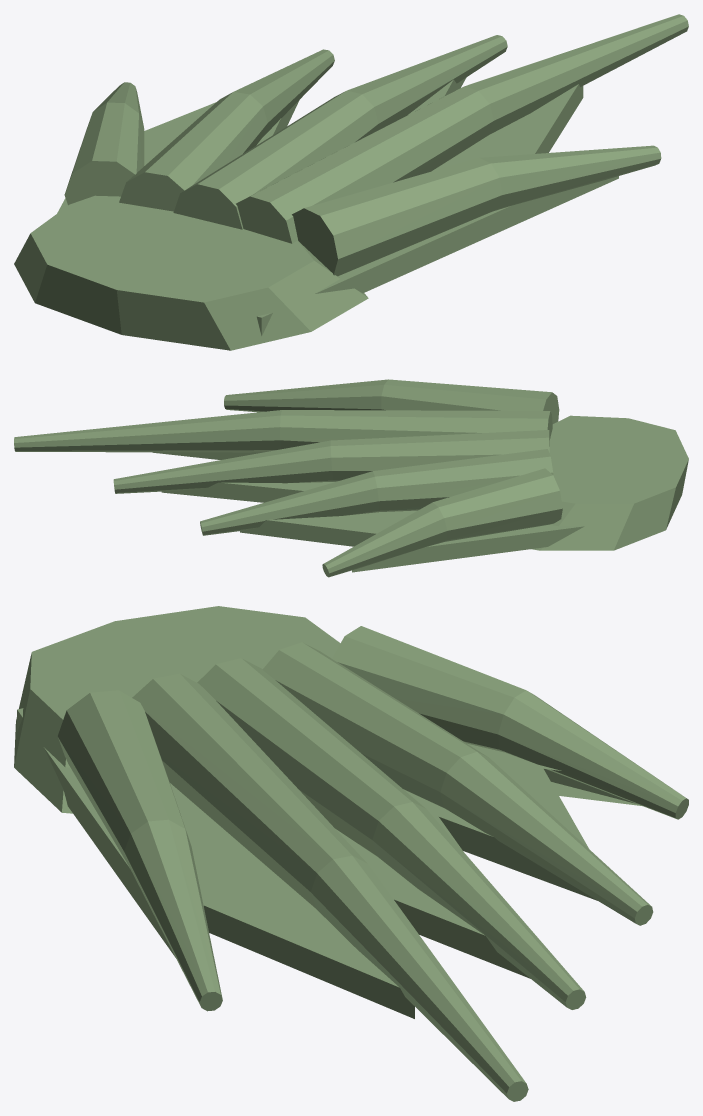
Rendered from frog_foot_hr_01.glb.
3 renders of one model, top to bottom at view 1: azimuth 30°, elevation 25°; view 2: azimuth 150°, elevation 25°; view 3: azimuth 270°, elevation 25°, orthographic. The views are drawn at different scales.
Parts seen in each view (by area): view 1: HindRPalm, HindRToe3, HindRToe4, HindRToe2, HindRWeb, HindRToe1, HindRToe0; view 2: HindRPalm, HindRToe3, HindRToe2, HindRToe1, HindRToe0, HindRWeb, HindRToe4; view 3: HindRToe3, HindRWeb, HindRToe2, HindRToe1, HindRPalm, HindRToe4, HindRToe0.
Part boxes in pixels (x1=…): HindRPalm: x1=14, y1=195, x2=368, y2=350; HindRToe3: x1=236, y1=14, x2=688, y2=243; HindRToe4: x1=292, y1=145, x2=661, y2=276; HindRToe2: x1=173, y1=35, x2=507, y2=229; HindRWeb: x1=57, y1=77, x2=618, y2=336; HindRToe1: x1=119, y1=49, x2=334, y2=211; HindRToe0: x1=64, y1=82, x2=144, y2=205; HindRPalm: x1=531, y1=415, x2=688, y2=550; HindRToe3: x1=14, y1=410, x2=552, y2=452; HindRToe2: x1=113, y1=430, x2=549, y2=493; HindRToe1: x1=200, y1=449, x2=553, y2=535; HindRToe0: x1=322, y1=468, x2=562, y2=577; HindRWeb: x1=152, y1=452, x2=584, y2=572; HindRToe4: x1=224, y1=379, x2=559, y2=423; HindRToe3: x1=132, y1=673, x2=528, y2=1101; HindRWeb: x1=17, y1=708, x2=641, y2=1018; HindRToe2: x1=197, y1=658, x2=586, y2=1009; HindRToe1: x1=262, y1=642, x2=653, y2=925; HindRPalm: x1=14, y1=606, x2=340, y2=813; HindRToe4: x1=57, y1=690, x2=222, y2=1011; HindRToe0: x1=332, y1=626, x2=688, y2=819.
Bounding box in the file's own units: 0.2646 × 0.0274 × 0.1699.
